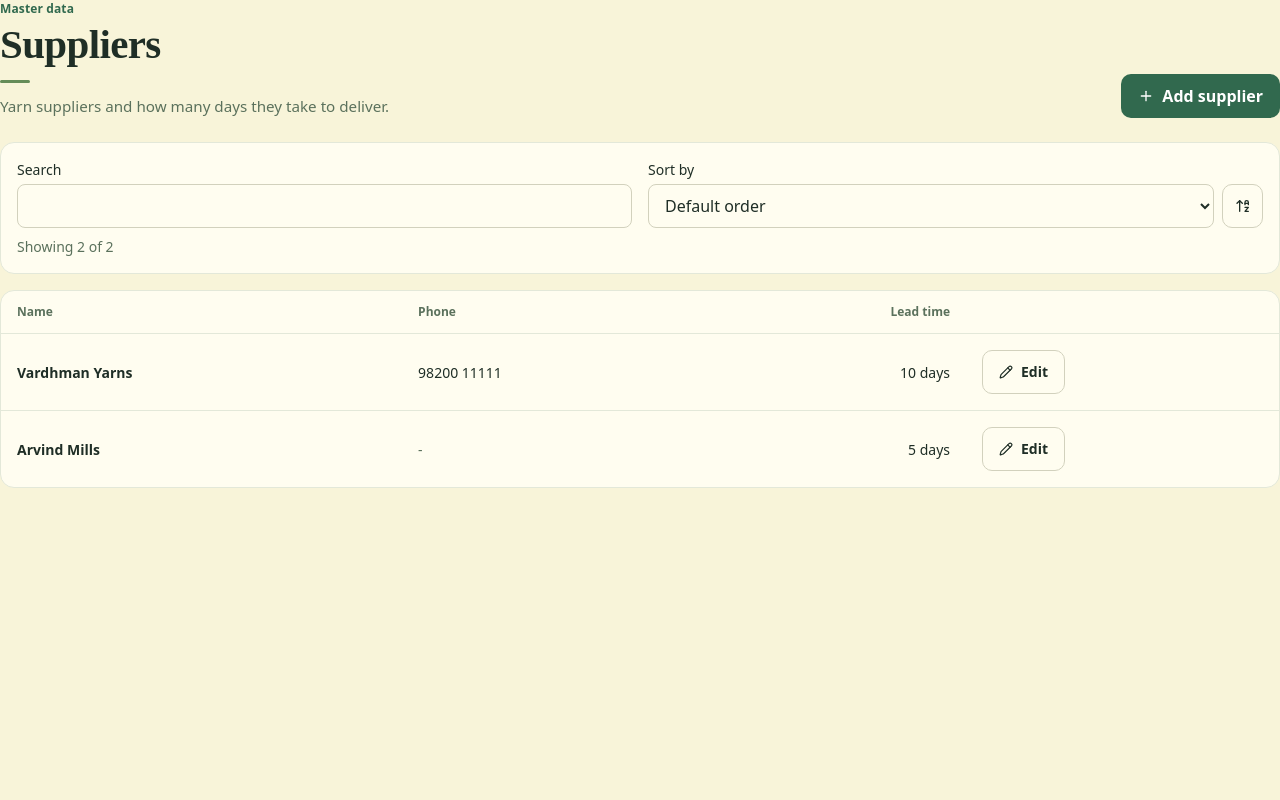
Scenario: Suppliers (a typical master list) › refuses a lead time that is not a number
Click the button "Add supplier".
click(1201, 96)  # box [1121,74,1279,118]
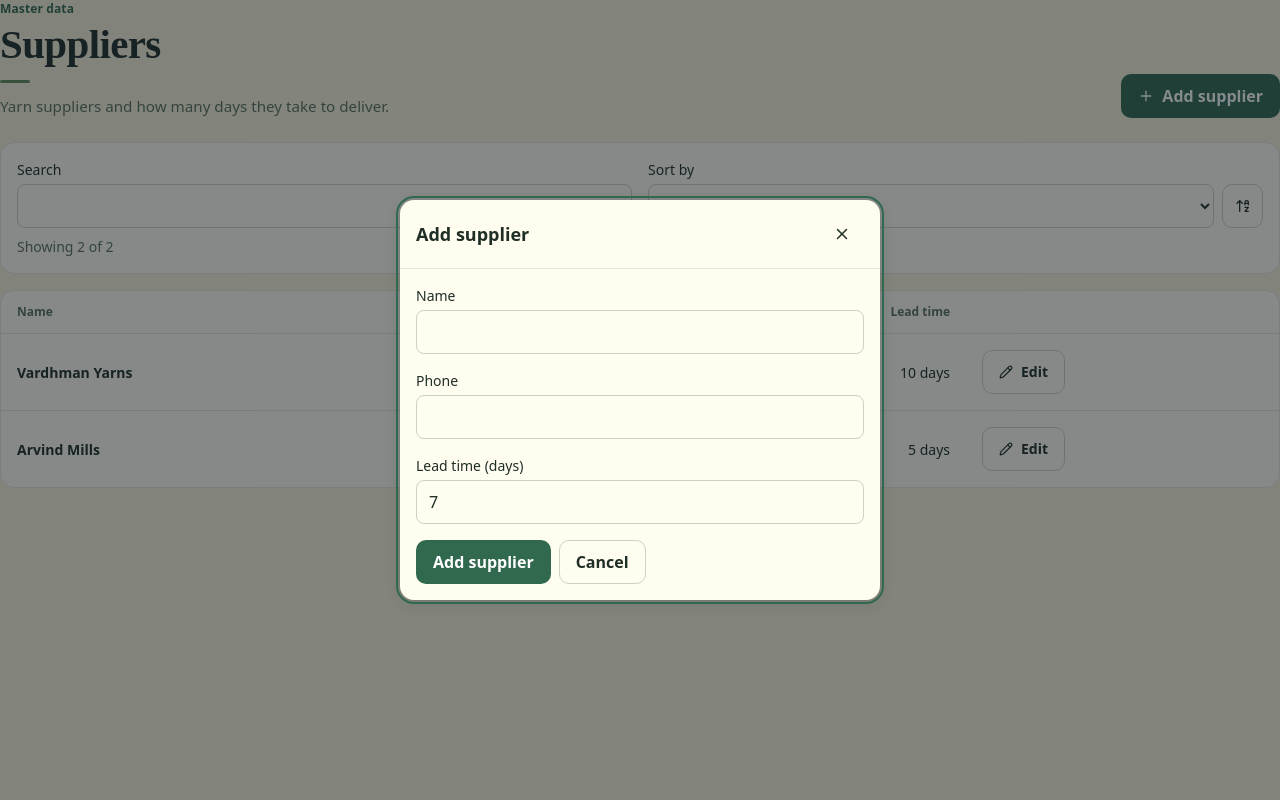
Type "X" into the field labelled "Name".
click(640, 332); type("X")  # box [416,310,864,354]
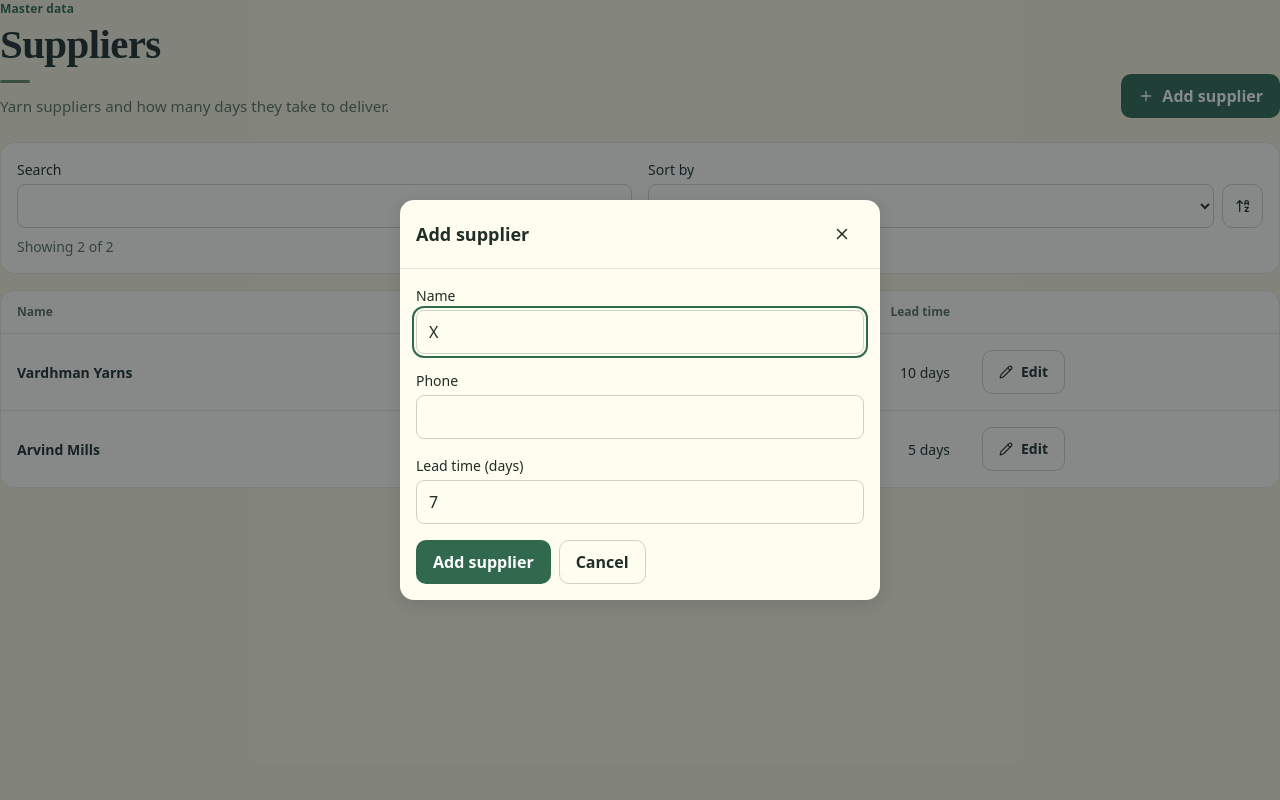
Replace the text in the field labelled "Lead time (days)" with "soon" at {"x": 640, "y": 502}, box [416,480,864,524]
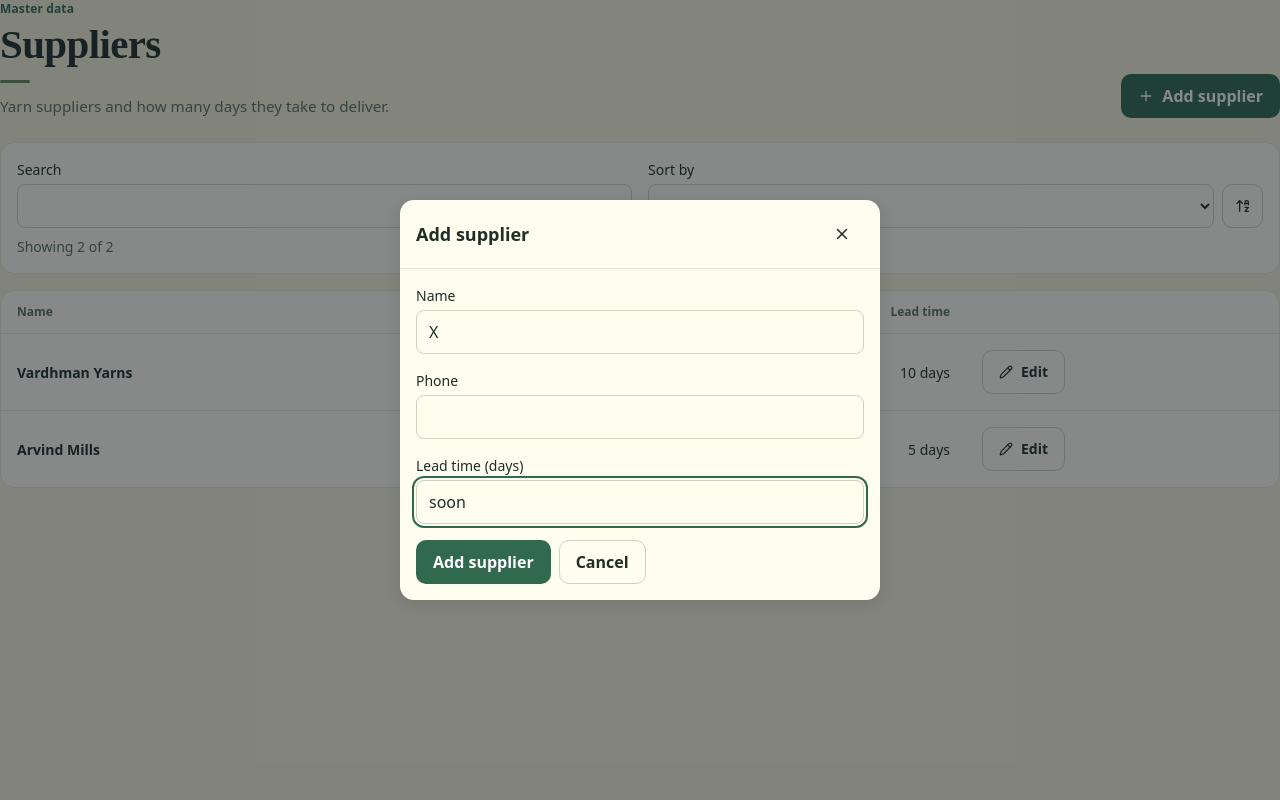
Click the button "Add supplier".
click(483, 562)  # box [416,540,551,584]
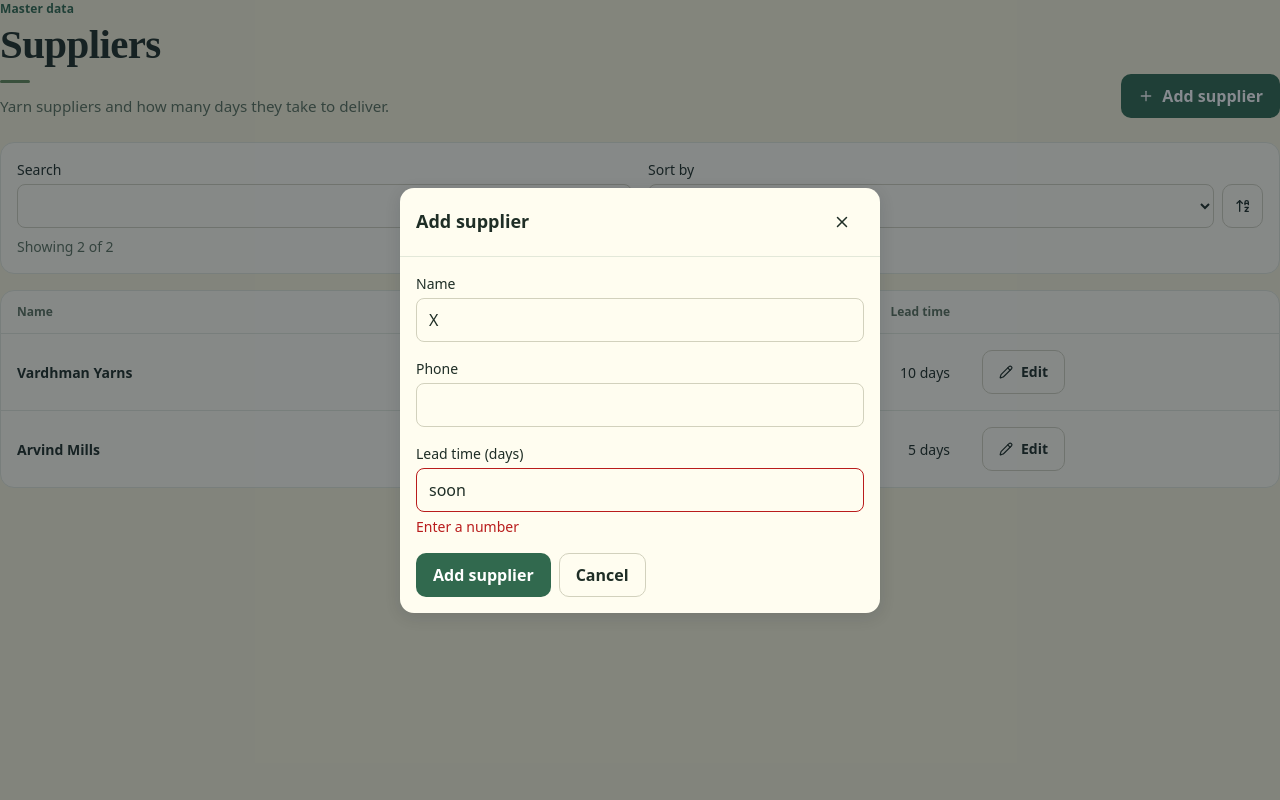
Result: the text "Enter a number" is shown at [416,516,519,536]
